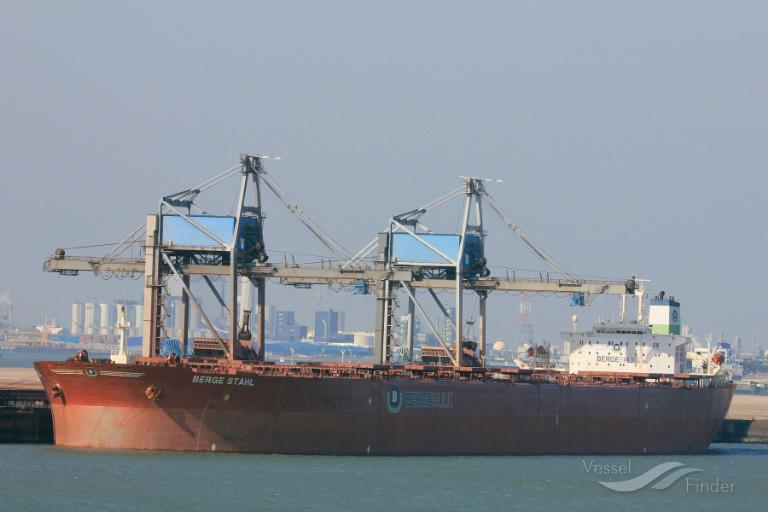OCR: (402, 384, 460, 420), (188, 368, 261, 394)
